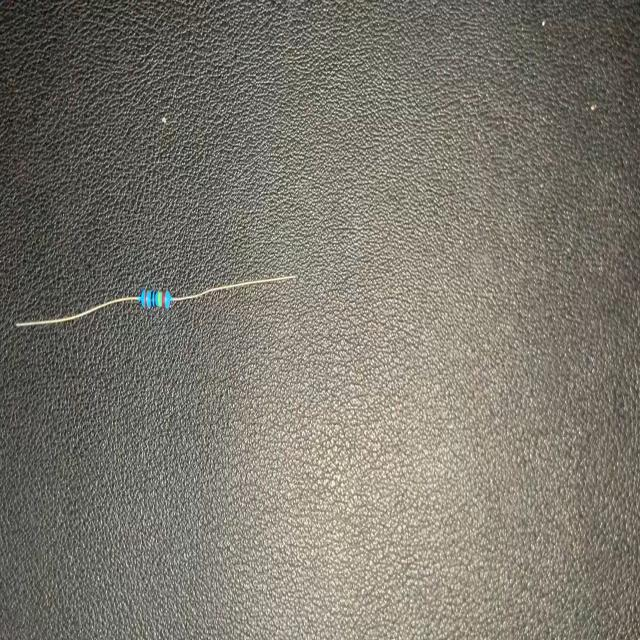resistor: (12, 268, 300, 336)
